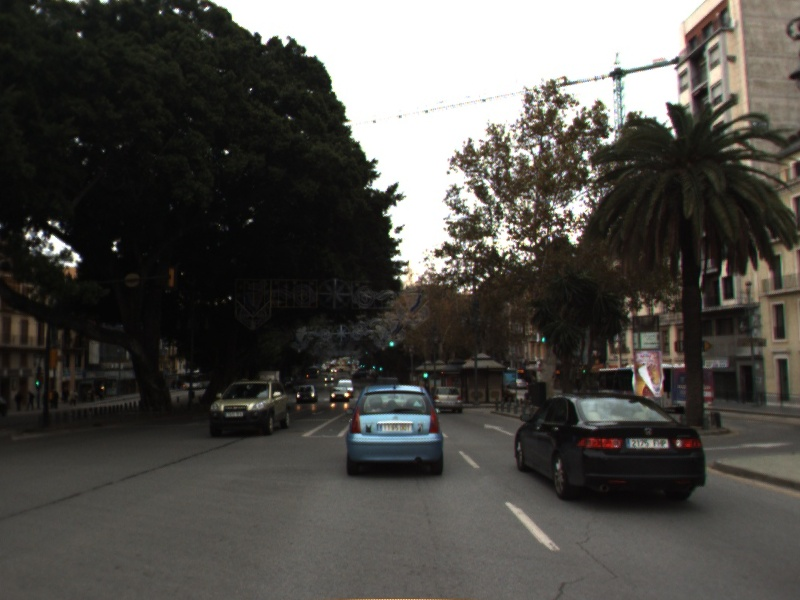STRAIGHT: (482, 421, 516, 437)
